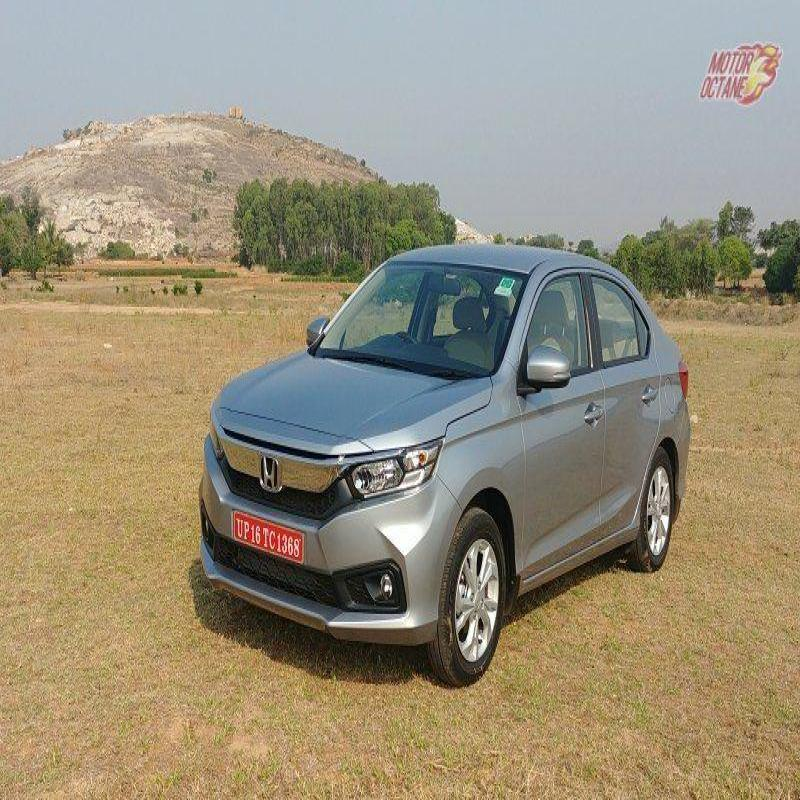car: (170, 213, 696, 670)
